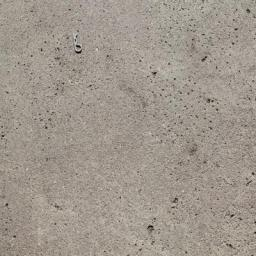FOD: (70, 24, 85, 60)
